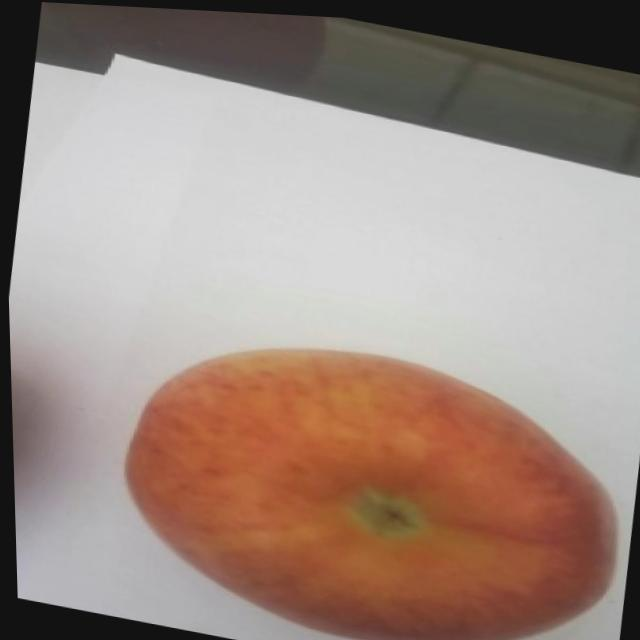Apple: (99, 307, 639, 640)
